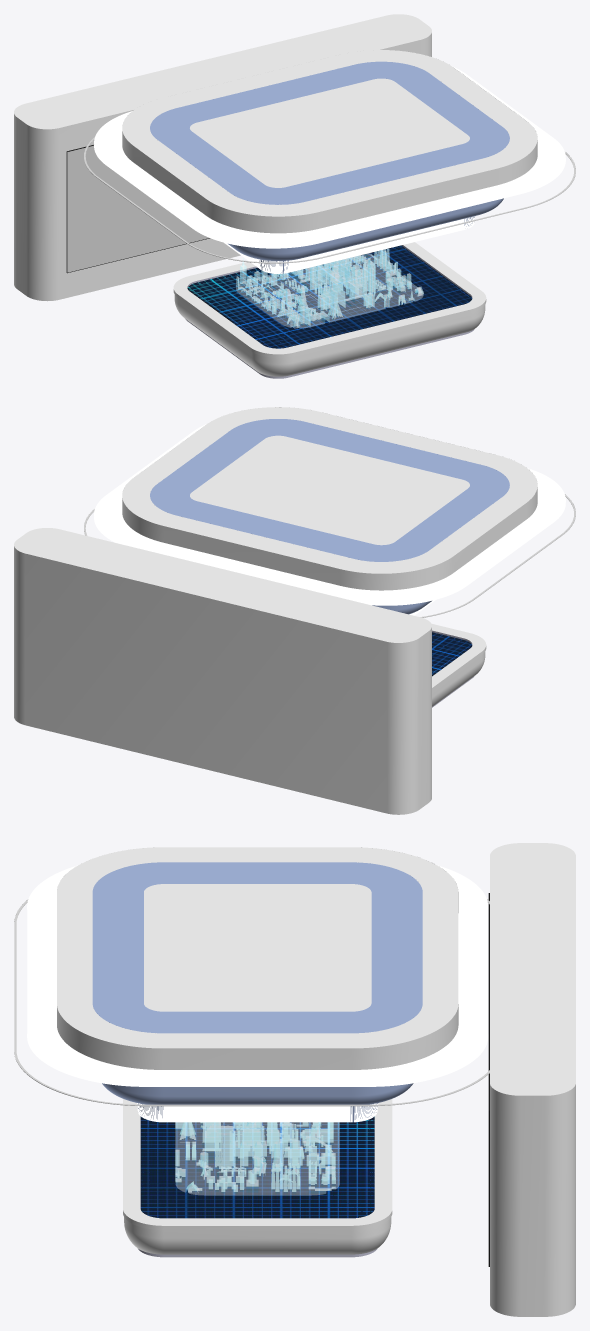
Rendered from stage.glb.
The picture shows the model from 3 angles, top to bottom: view 1: azimuth 30°, elevation 25°; view 2: azimuth 150°, elevation 25°; view 3: azimuth 270°, elevation 25°; orthographic projection. The views are drawn at different scales.
Parts seen in each view (by area): view 1: Mesh_580, Mesh_584, Mesh_579, Mesh_597, Mesh_586, Mesh_578, Mesh_593, Mesh_598, Mesh_587, Mesh_585; view 2: Mesh_584, Mesh_580, Mesh_579, Mesh_578, Mesh_586, Mesh_597, Mesh_587; view 3: Mesh_580, Mesh_584, Mesh_579, Mesh_597, Mesh_578, Mesh_586, Mesh_598, Mesh_587, Mesh_585, Mesh_592.
Boxes of the visible parts, box(x1,y1,x2,y2) form: Mesh_580: box(122, 50, 537, 233); Mesh_584: box(14, 14, 431, 301); Mesh_579: box(150, 61, 509, 273); Mesh_597: box(187, 245, 472, 348); Mesh_586: box(173, 242, 486, 376); Mesh_578: box(94, 66, 565, 248); Mesh_593: box(67, 145, 208, 272); Mesh_598: box(236, 249, 423, 327); Mesh_587: box(84, 137, 575, 263); Mesh_585: box(185, 245, 474, 378); Mesh_584: box(14, 528, 431, 814); Mesh_580: box(122, 407, 537, 590); Mesh_579: box(150, 419, 509, 615); Mesh_578: box(94, 423, 565, 605); Mesh_586: box(431, 623, 486, 706); Mesh_597: box(432, 632, 472, 676); Mesh_587: box(84, 494, 575, 617); Mesh_580: box(57, 847, 458, 1069); Mesh_584: box(490, 843, 575, 1316); Mesh_579: box(92, 862, 422, 1122); Mesh_597: box(140, 1116, 374, 1218); Mesh_578: box(27, 865, 488, 1086); Mesh_586: box(123, 1099, 392, 1254); Mesh_598: box(175, 1122, 339, 1195); Mesh_587: box(14, 899, 489, 1106); Mesh_585: box(138, 1248, 377, 1257); Mesh_592: box(488, 893, 489, 1266).
Bounding box in the file's own units: 10.05 × 4.5 × 9.44.
13 materials, 1 textured.
